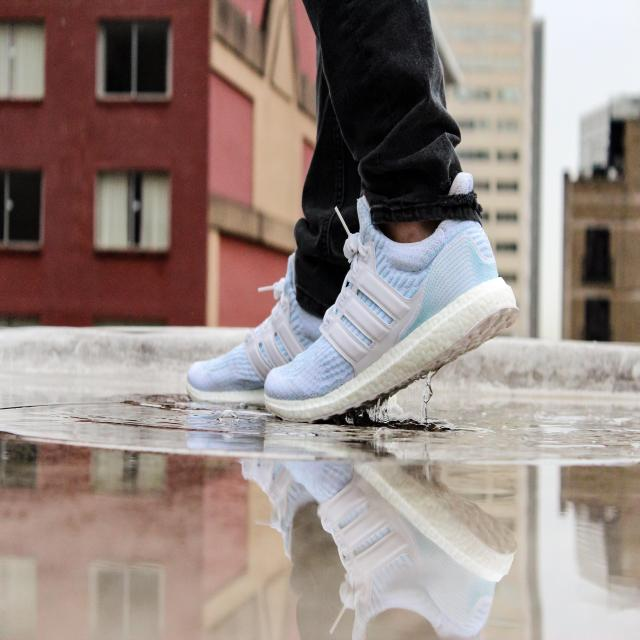shoe: (263, 230, 523, 426), (187, 257, 316, 400)
